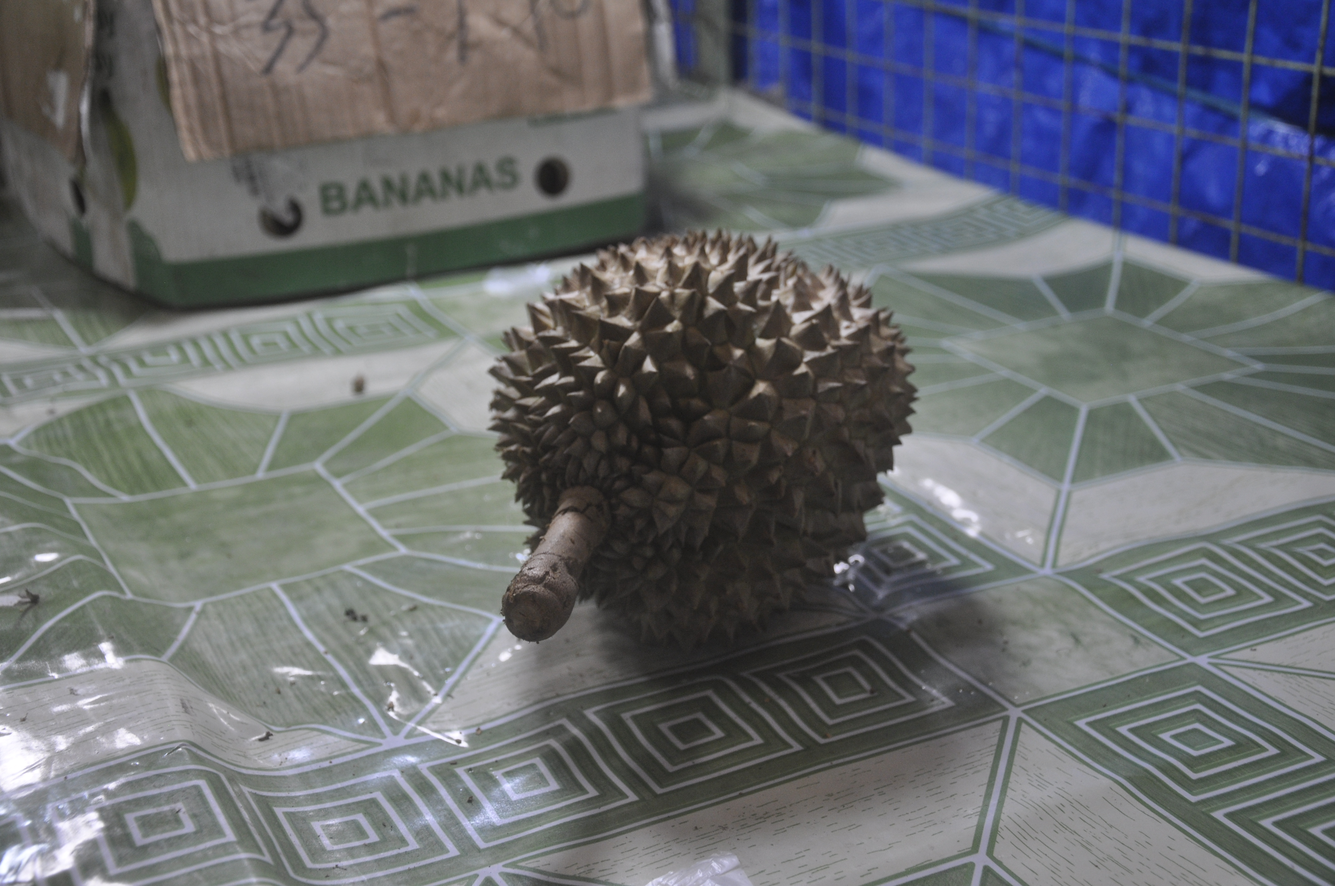mature: (491, 231, 915, 648)
